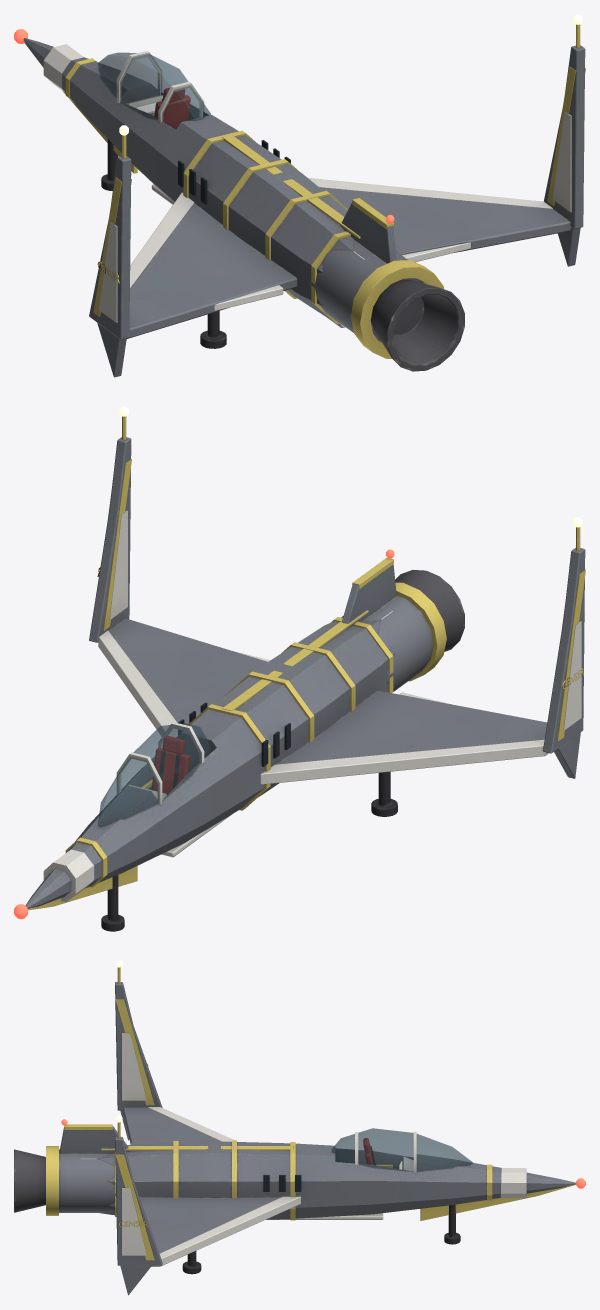
The model's file is censer.glb.
3 renders of one model, top to bottom at view 1: azimuth 30°, elevation 25°; view 2: azimuth 150°, elevation 25°; view 3: azimuth 270°, elevation 25°, orthographic. The views are drawn at different scales.
Parts seen in each view (by area): view 1: hull, glass, lights; view 2: hull, glass; view 3: hull, glass.
Part boxes in pixels (left/top/right/bottom): hull: left=22, top=24, right=585, bottom=377; glass: left=98, top=52, right=290, bottom=204; lights: left=14, top=14, right=582, bottom=223; hull: left=25, top=416, right=585, bottom=931; glass: left=98, top=702, right=290, bottom=826; hull: left=14, top=967, right=576, bottom=1295; glass: left=263, top=1128, right=473, bottom=1191.
Bounding box in the file's own units: 7.07 × 4.22 × 10.77.
Materials: 11 (9 with a texture image).
